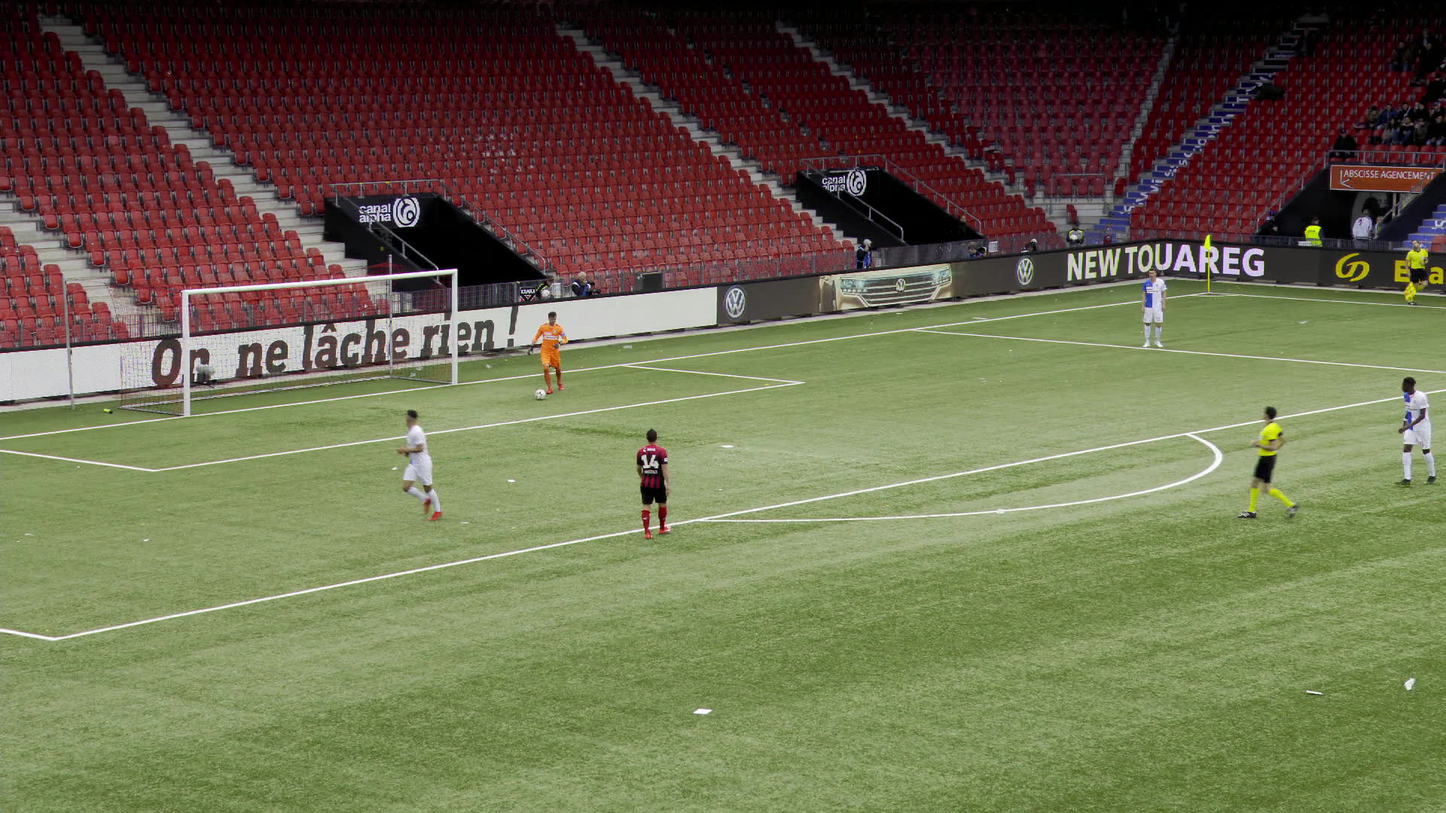ball: (535, 390, 545, 400)
player: (401, 408, 450, 524), (636, 428, 673, 539), (1398, 378, 1435, 488), (529, 310, 564, 393), (1141, 268, 1167, 348)
referee: (1231, 407, 1291, 522), (1398, 238, 1426, 304)
